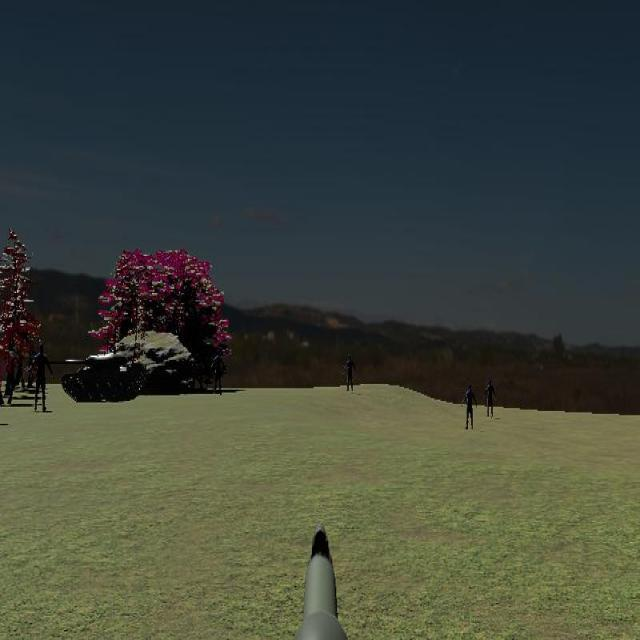Tank: (53, 348, 142, 403)
